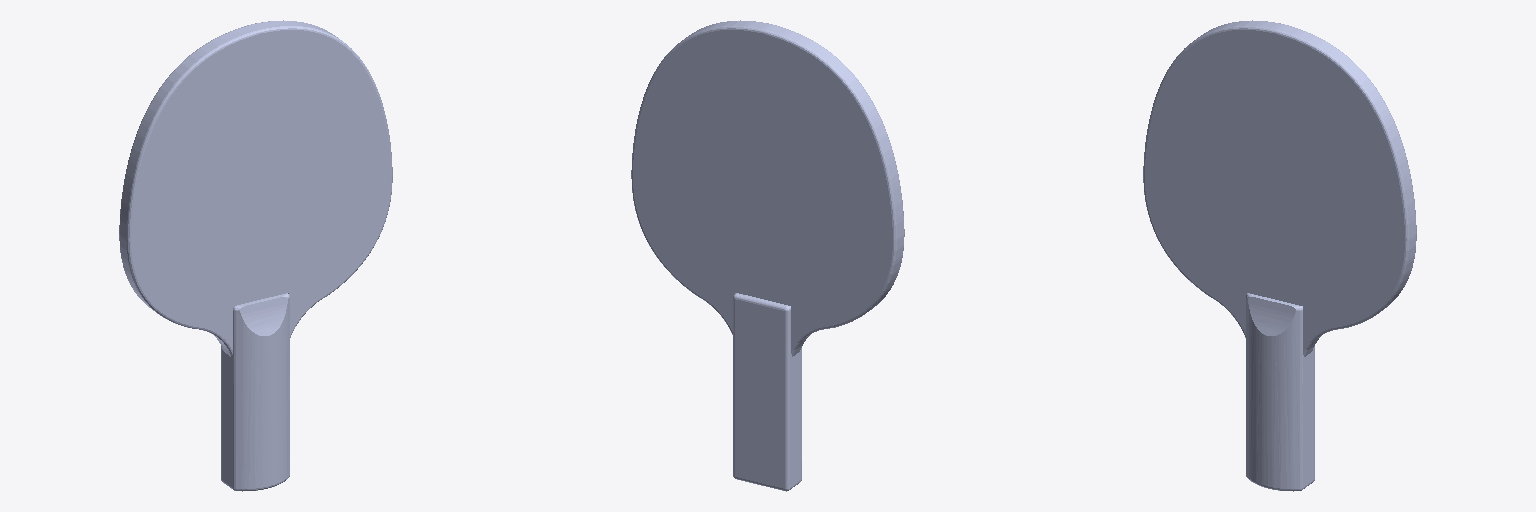
robot.urdf — tennis_bat3:
<?xml version="1.0" encoding="utf-8"?>
<!-- This URDF was automatically created by SolidWorks to URDF Exporter! Originally created by Stephen Brawner (brawner@gmail.com) 
     Commit Version: 1.6.0-4-g7f85cfe  Build Version: 1.6.7995.38578
     For more information, please see http://wiki.ros.org/sw_urdf_exporter -->
<robot
  name="tennis_bat3">
  <link
    name="base_link">
    <inertial>
      <origin
        xyz="-0.11856 0.18892 0.05228"
        rpy="0 0 0" />
      <mass
        value="0.24742" />
      <inertia
        ixx="0.00035548"
        ixy="1.8739E-11"
        ixz="8.5129E-09"
        iyy="0.00063703"
        iyz="-2.7247E-07"
        izz="0.00028789" />
    </inertial>
    <visual>
      <origin
        xyz="0 0 0"
        rpy="0 0 0" />
      <geometry>
        <mesh
          filename="package://tennis_bat3/meshes/base_link.STL" />
      </geometry>
      <material
        name="">
        <color
          rgba="0.79216 0.81961 0.93333 1" />
      </material>
    </visual>
    <collision>
      <origin
        xyz="0 0 0"
        rpy="0 0 0" />
      <geometry>
        <mesh
          filename="package://tennis_bat3/meshes/base_link.STL" />
      </geometry>
    </collision>
  </link>
</robot>

--- What the picture shows (computed from the rendered views, not written in the file) ---
The picture shows the robot from 3 angles, left to right: view 1: azimuth 30°, elevation 25°; view 2: azimuth 150°, elevation 25°; view 3: azimuth 330°, elevation 25°; orthographic projection.
Model tennis_bat3 with 1 links and 0 joints (none), rooted at base_link, posed every joint at zero.
Links seen in each view (by area): view 1: base_link; view 2: base_link; view 3: base_link.
Boxes of the visible links, <box> form: base_link: <box>119,20,392,491</box>; base_link: <box>631,20,904,491</box>; base_link: <box>1143,20,1416,491</box>.
Bounding box of the posed robot: 0.15 × 0.02 × 0.245 m (x, y, z).
1 mesh visuals loaded from 1 distinct referenced files (1 binary STL).
